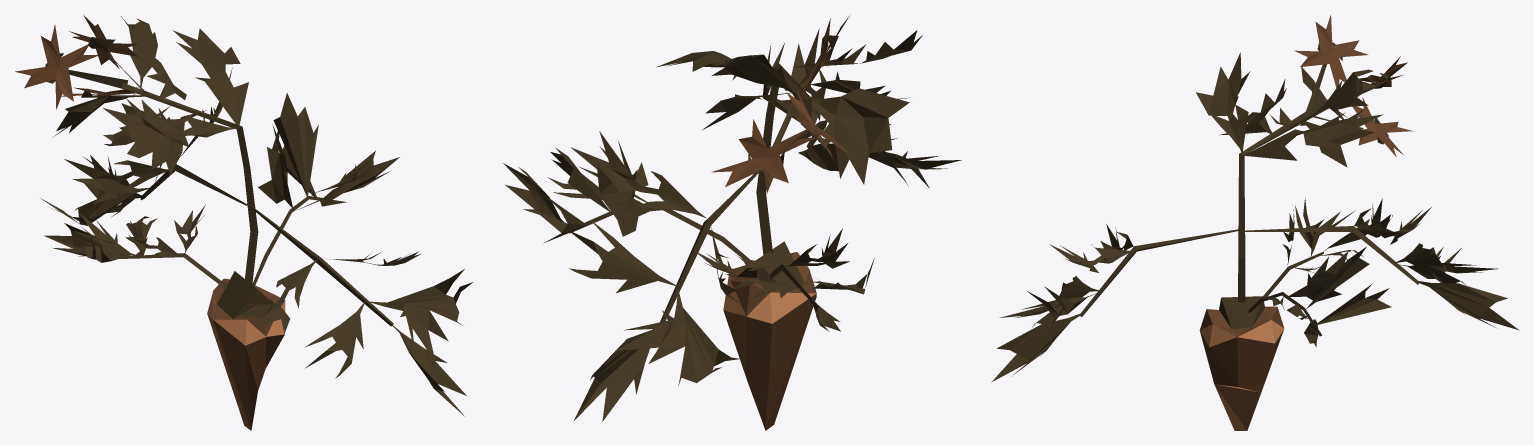
File: Carrot_5.fbx
3 views of the same model, side by side, from view 1: azimuth 30°, elevation 25°; view 2: azimuth 150°, elevation 25°; view 3: azimuth 270°, elevation 25° (orthographic). The views are drawn at different scales.
Parts seen in each view (by area): view 1: Carrot_5; view 2: Carrot_5; view 3: Carrot_5.
Boxes of the visible parts, box(x1,y1,x2,y2) form: Carrot_5: box(15, 15, 472, 430); Carrot_5: box(503, 16, 961, 430); Carrot_5: box(991, 15, 1519, 430).
Bounding box in the file's own units: 43.07 × 49.52 × 64.8.
